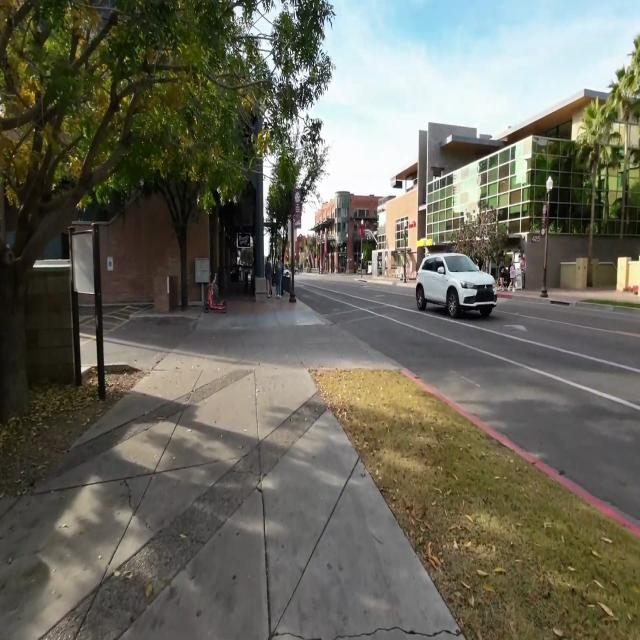road: (296, 276, 640, 521)
side walk: (1, 302, 466, 639)
